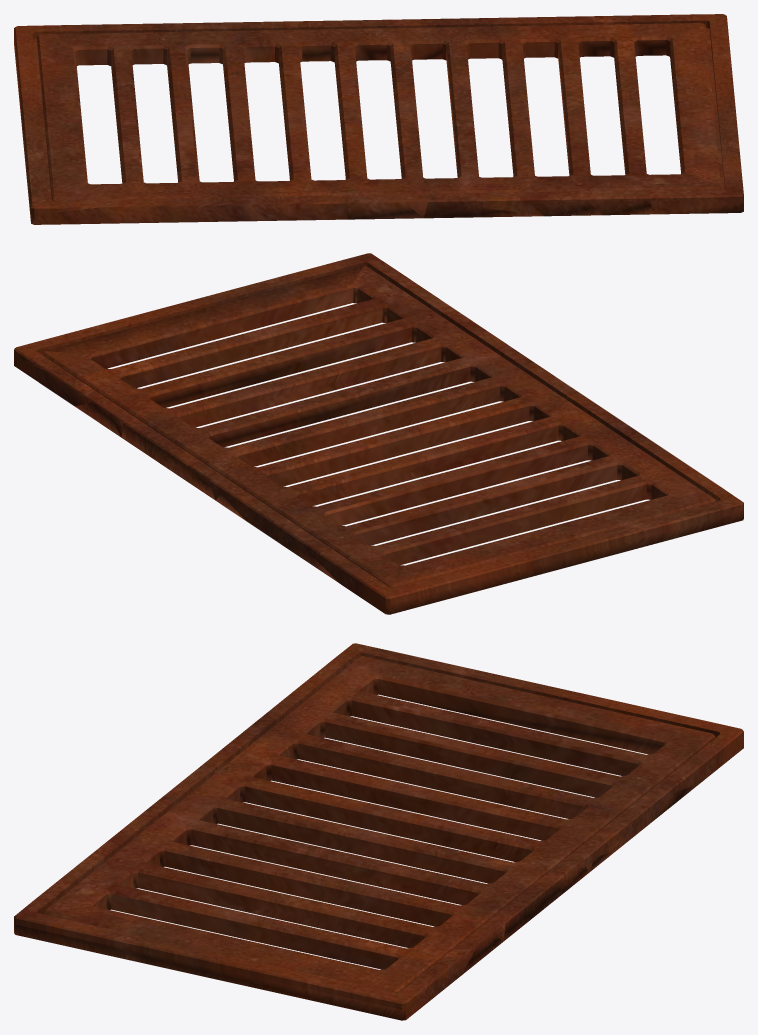
Rendered from inlet.glb.
3 views of the same model, one above another, from view 1: azimuth 30°, elevation 25°; view 2: azimuth 150°, elevation 25°; view 3: azimuth 270°, elevation 25° (orthographic). The views are drawn at different scales.
Visible parts, largest first — view 1: Drain_w; view 2: Drain_w; view 3: Drain_w.
Boxes of the visible parts, x1,y1,x2,y2 form: Drain_w: (14,14,743,224); Drain_w: (14,253,743,614); Drain_w: (14,643,743,1020).
Size of the model in its own units: 0.7777 by 0.0181 by 0.6663.
1 material, 1 textured.
